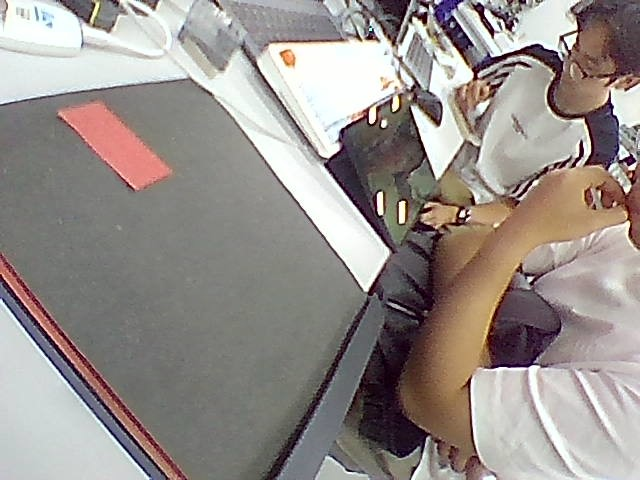card: (58, 102, 172, 190)
